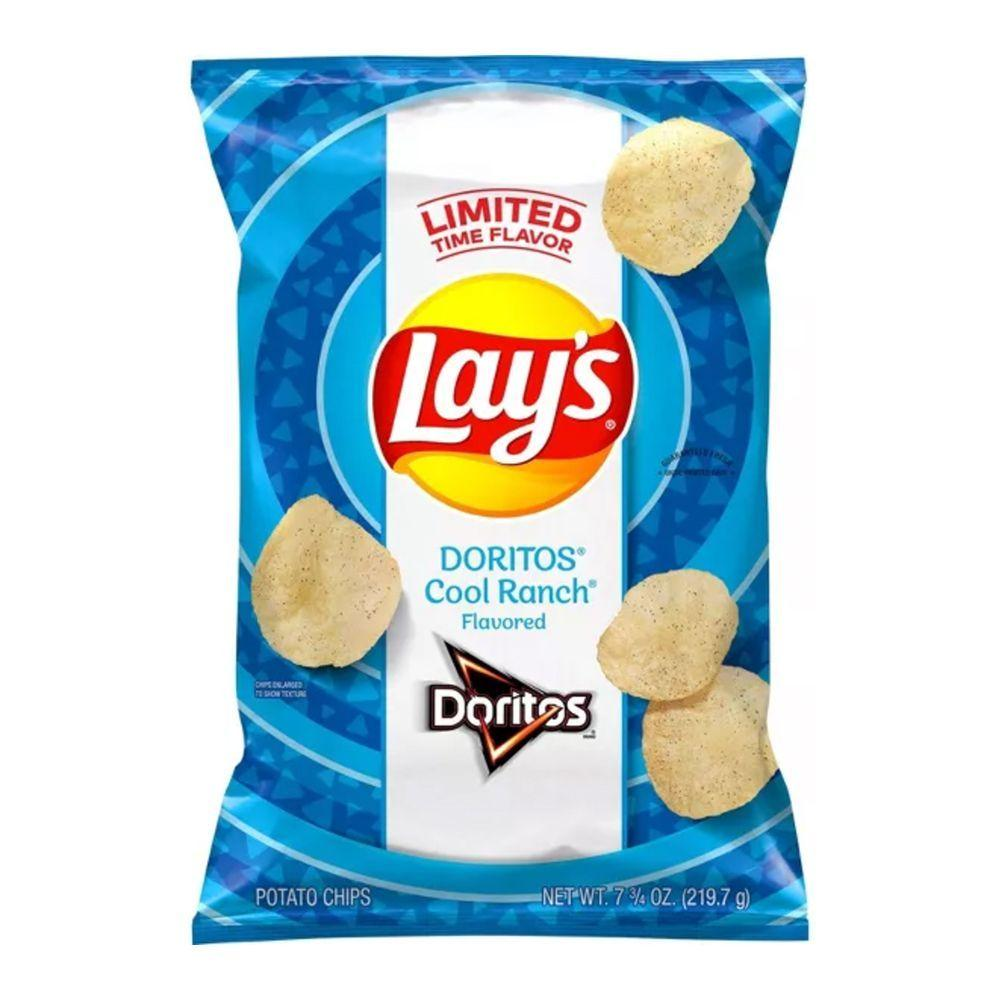Lays: (185, 51, 818, 942)
